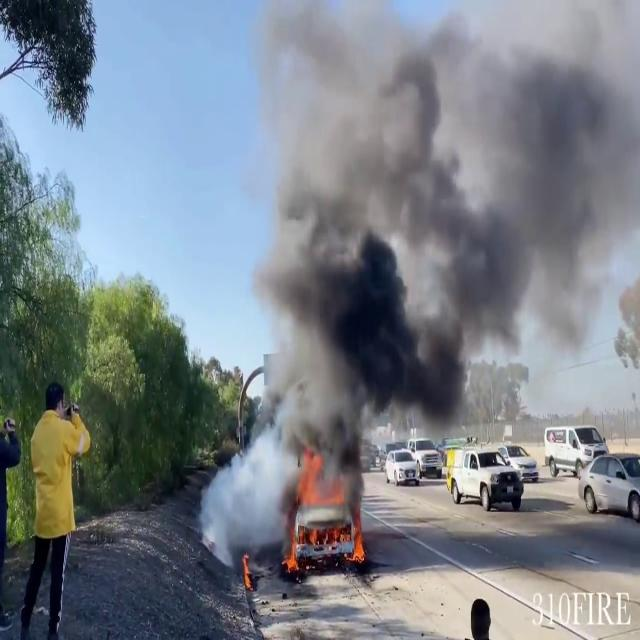Fire: (280, 460, 368, 580)
Smoke: (221, 0, 639, 513)
